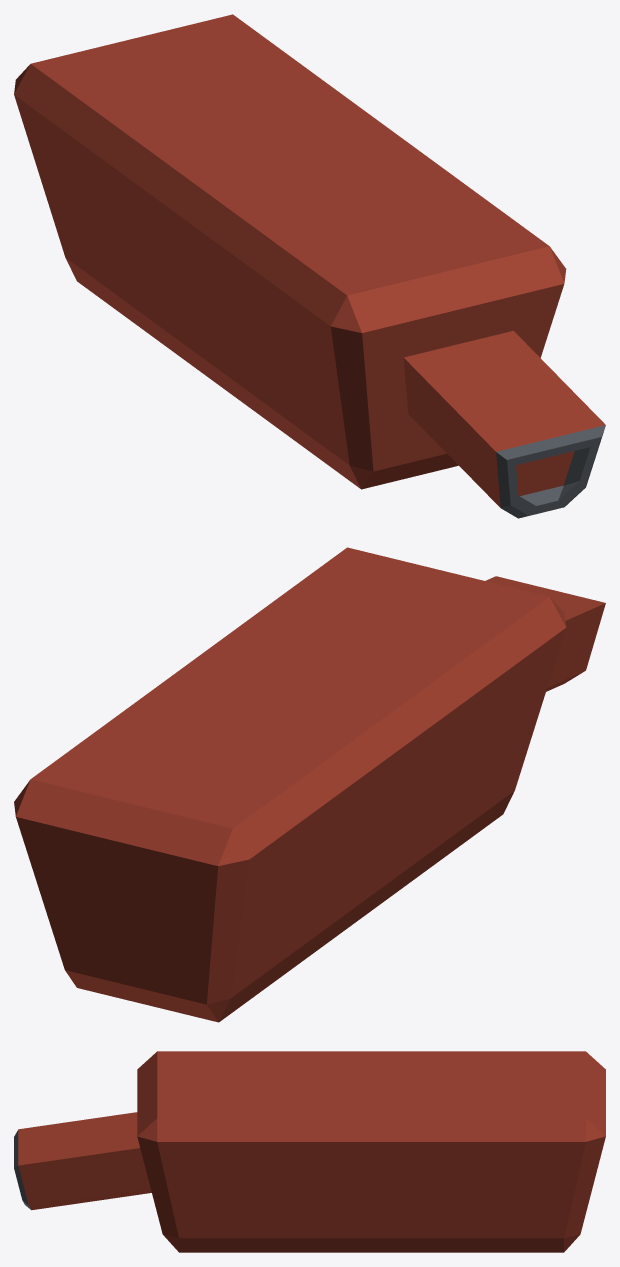
Rendered from Dropship_02_Periscope_Red.fbx.
3 renders of one model, top to bottom at view 1: azimuth 30°, elevation 25°; view 2: azimuth 150°, elevation 25°; view 3: azimuth 270°, elevation 25°, orthographic. The views are drawn at different scales.
Visible parts, largest first — view 1: Dropship_02_Periscope_Red; view 2: Dropship_02_Periscope_Red; view 3: Dropship_02_Periscope_Red.
Part boxes in pixels (x1=…): Dropship_02_Periscope_Red: x1=14, y1=14, x2=605, y2=518; Dropship_02_Periscope_Red: x1=14, y1=547, x2=605, y2=1022; Dropship_02_Periscope_Red: x1=14, y1=1051, x2=605, y2=1252.
Bounding box in the file's own units: 130 × 112 × 417.
Materials: 1 (1 with a texture image).
